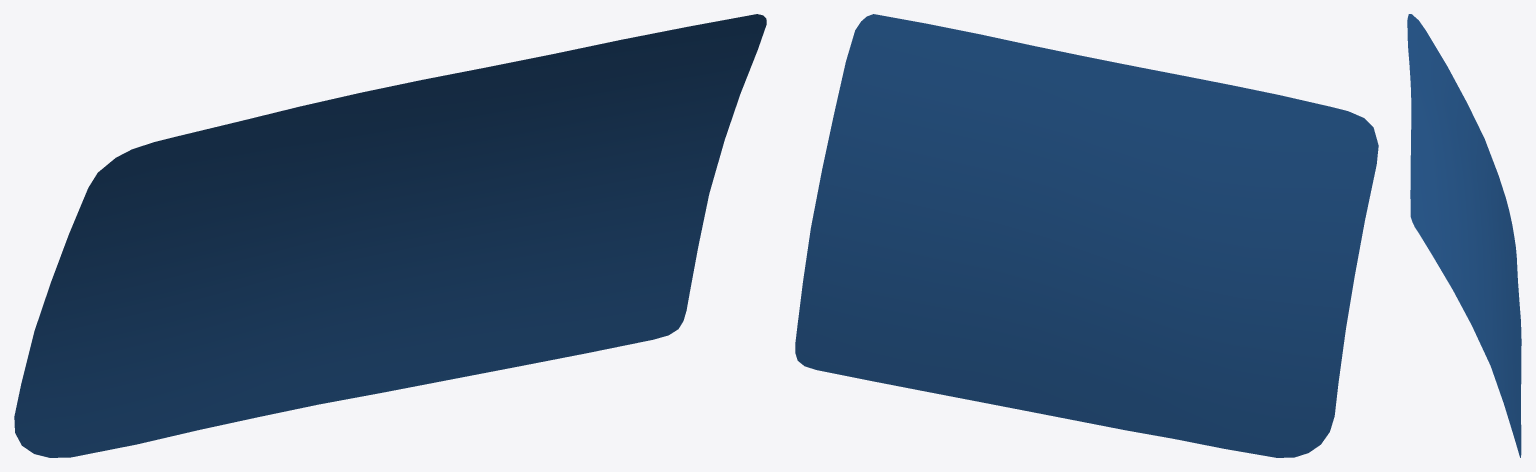
3 views of the same model, side by side, from view 1: azimuth 30°, elevation 25°; view 2: azimuth 150°, elevation 25°; view 3: azimuth 270°, elevation 25° (orthographic). The views are drawn at different scales.
Parts seen in each view (by area): view 1: N664_9A_305B_L_1_DTaSI_N664_9A_305B_L; view 2: N664_9A_305B_L_1_DTaSI_N664_9A_305B_L; view 3: N664_9A_305B_L_1_DTaSI_N664_9A_305B_L.
Part boxes in pixels (x1,y1,x2,y2): N664_9A_305B_L_1_DTaSI_N664_9A_305B_L: (14, 14, 766, 457); N664_9A_305B_L_1_DTaSI_N664_9A_305B_L: (795, 14, 1378, 457); N664_9A_305B_L_1_DTaSI_N664_9A_305B_L: (1407, 14, 1521, 457).
Bounding box in the file's own units: 80.83 × 46.1 × 18.69.
